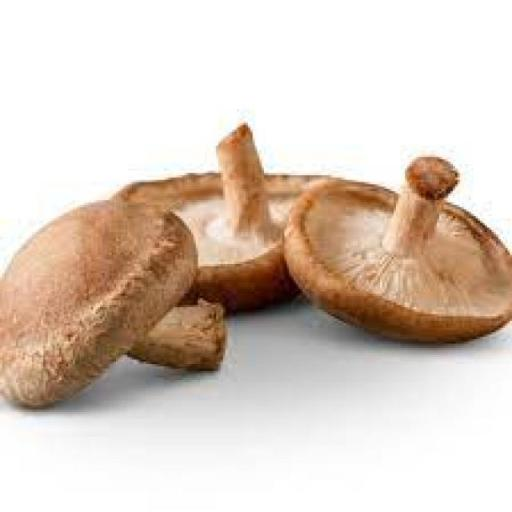Shiitake Mushroom: (2, 204, 234, 411), (288, 150, 512, 346), (112, 128, 353, 302)
